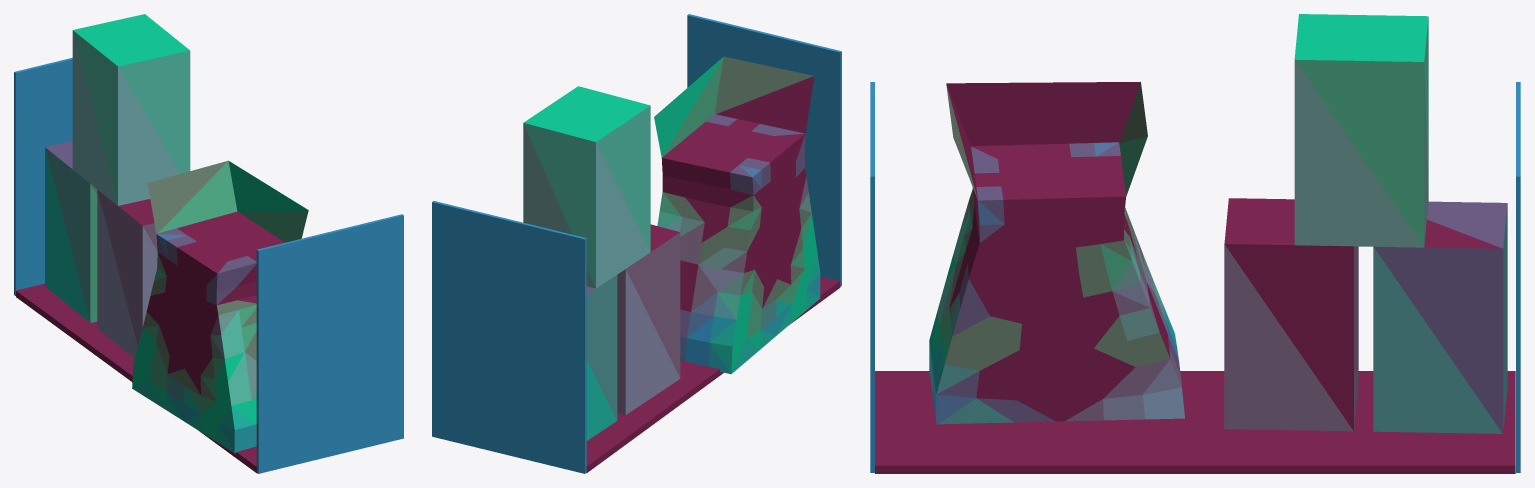
The picture shows the model from 3 angles, left to right: view 1: azimuth 30°, elevation 25°; view 2: azimuth 150°, elevation 25°; view 3: azimuth 270°, elevation 25°; orthographic projection. The views are drawn at different scales.
Parts seen in each view (by area): view 1: world; view 2: world; view 3: world.
Boxes of the visible parts, x1,y1,x2,y2 form: world: (14,14,403,473); world: (432,14,841,473); world: (870,14,1520,473).
Bounding box in the file's own units: 0.3686 × 0.6434 × 1.
